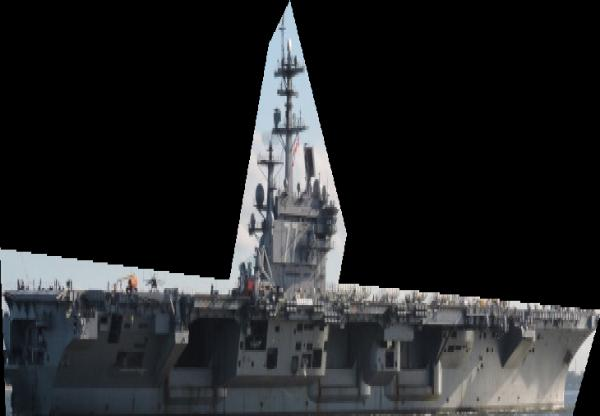Aircraft Carrier: (0, 0, 600, 416)
